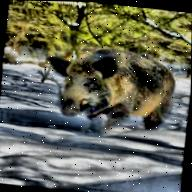boar: (39, 34, 192, 145)
